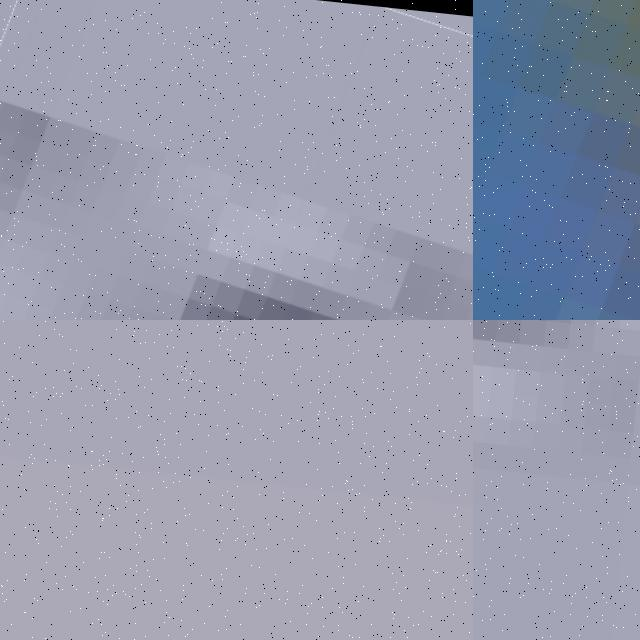drone: (0, 0, 473, 320), (473, 0, 640, 320)
